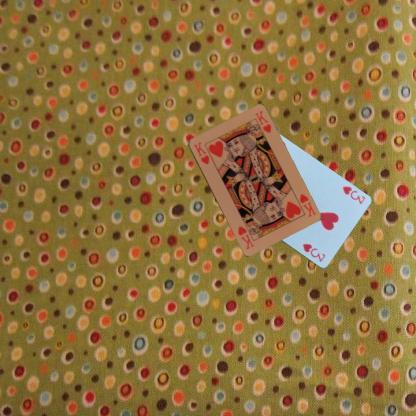3h: (339, 183, 366, 205)
Kh: (297, 192, 317, 219), (191, 139, 210, 166)
